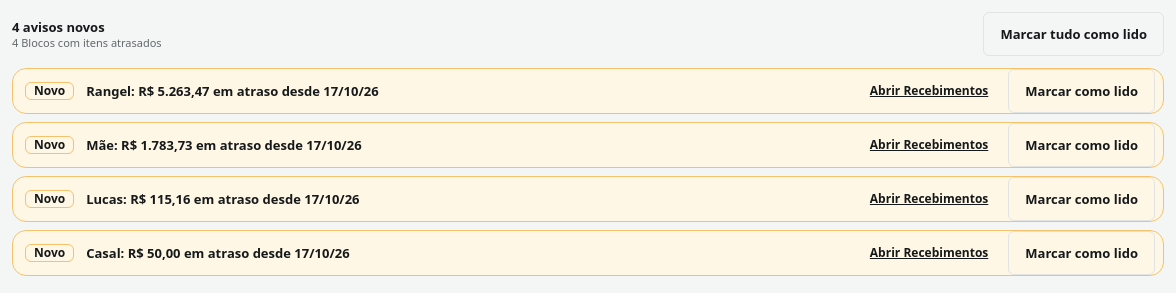
Test: Central de Avisos: marcar tudo como lido › anuncia o resultado numa região `status` e zera o resumo, mantendo os avisos como Lidos
Click the button "Marcar tudo como lido" at (1074, 34), box [984,12,1164,56]
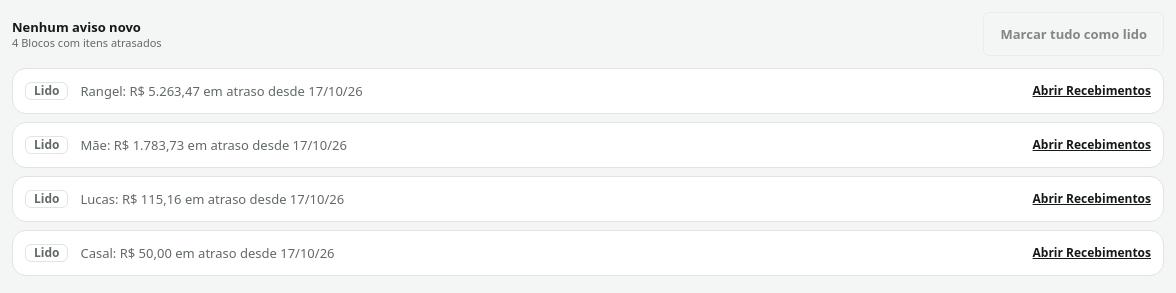
Expected: the number of list items is 4, [12,68,1164,114]; [12,122,1164,168]; [12,176,1164,222]; [12,230,1164,276]
Result: the text "Nenhum aviso novo" is shown at [12,18,141,36]
